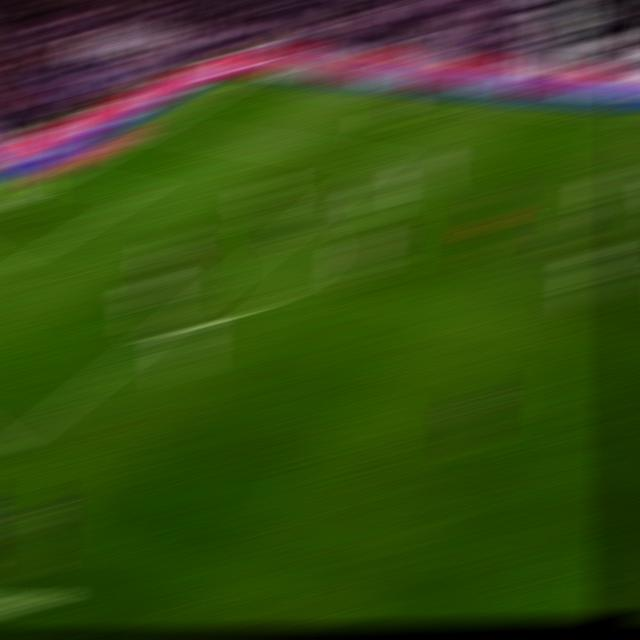bigarea_top_inner: (362, 152, 396, 166)
bottom_arc_area_intersection: (143, 325, 176, 336)
corner: (235, 74, 270, 81)
smallarea_top_inner: (124, 189, 155, 197)
top_arc_area_intersection: (277, 224, 307, 233)
